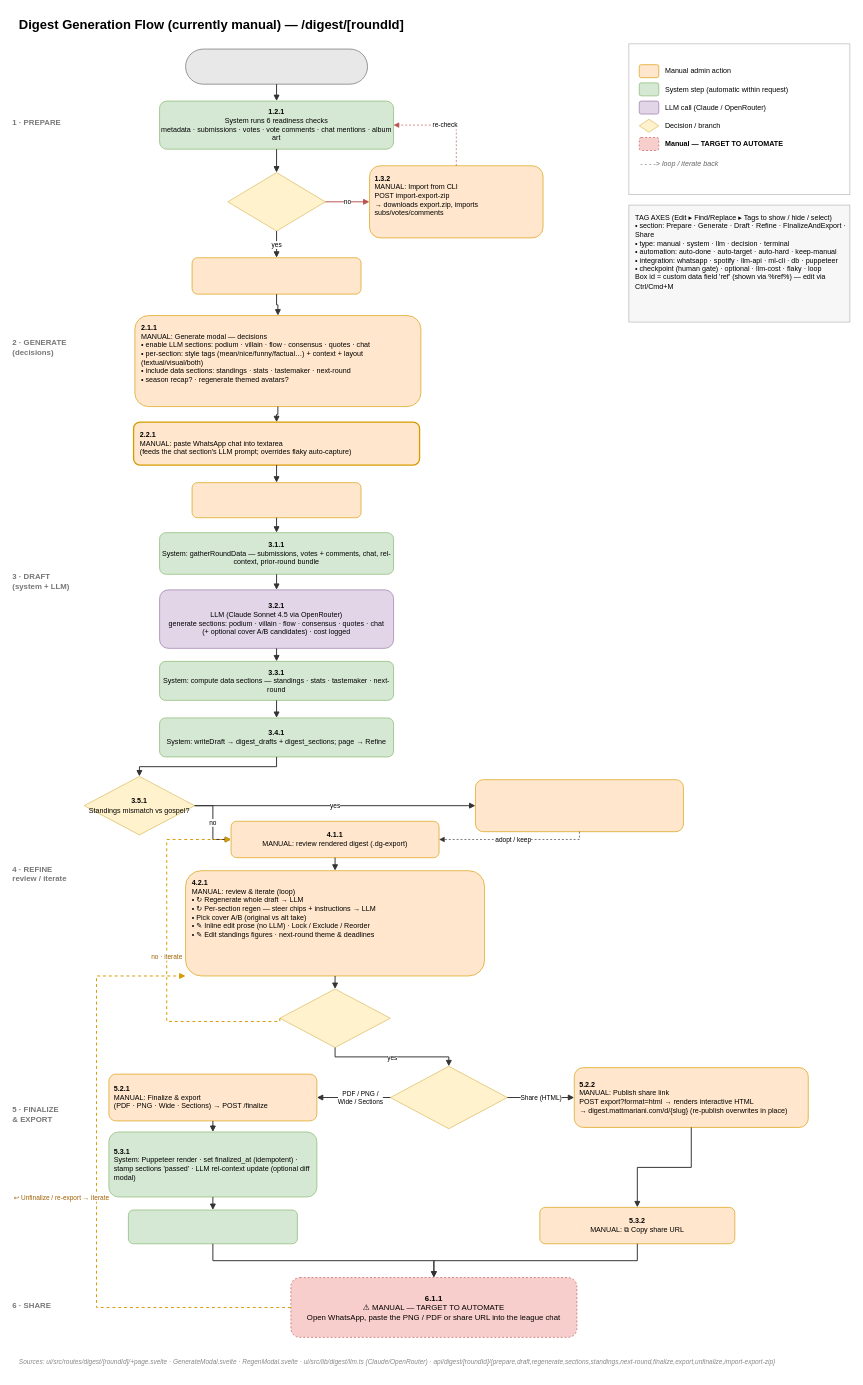
The diagram is 863 pixels wide and 1385 high, and some of its shapes have lost their labels. Here are the shapes that lost their labels. From the top down, the box of each, then its label:
(185, 48, 368, 84): 1.1.1 Admin opens /digest/[roundId]
(628, 43, 850, 195): LEGEND
(227, 172, 325, 231): 1.3.1 All checks pass?
(191, 257, 361, 294): 1.4.1 MANUAL: click "Generate draft…"
(191, 482, 361, 518): 2.3.1 MANUAL: click Generate → POST /draft
(475, 779, 683, 832): 3.5.2 MANUAL: Reconciliation modal adopt computed / keep stored gospel
(279, 988, 390, 1047): 4.3.1 Happy with draft?
(390, 1066, 507, 1129): 5.1.1 Export format?
(128, 1209, 297, 1244): 5.4.1 System: browser auto-downloads file(s)
